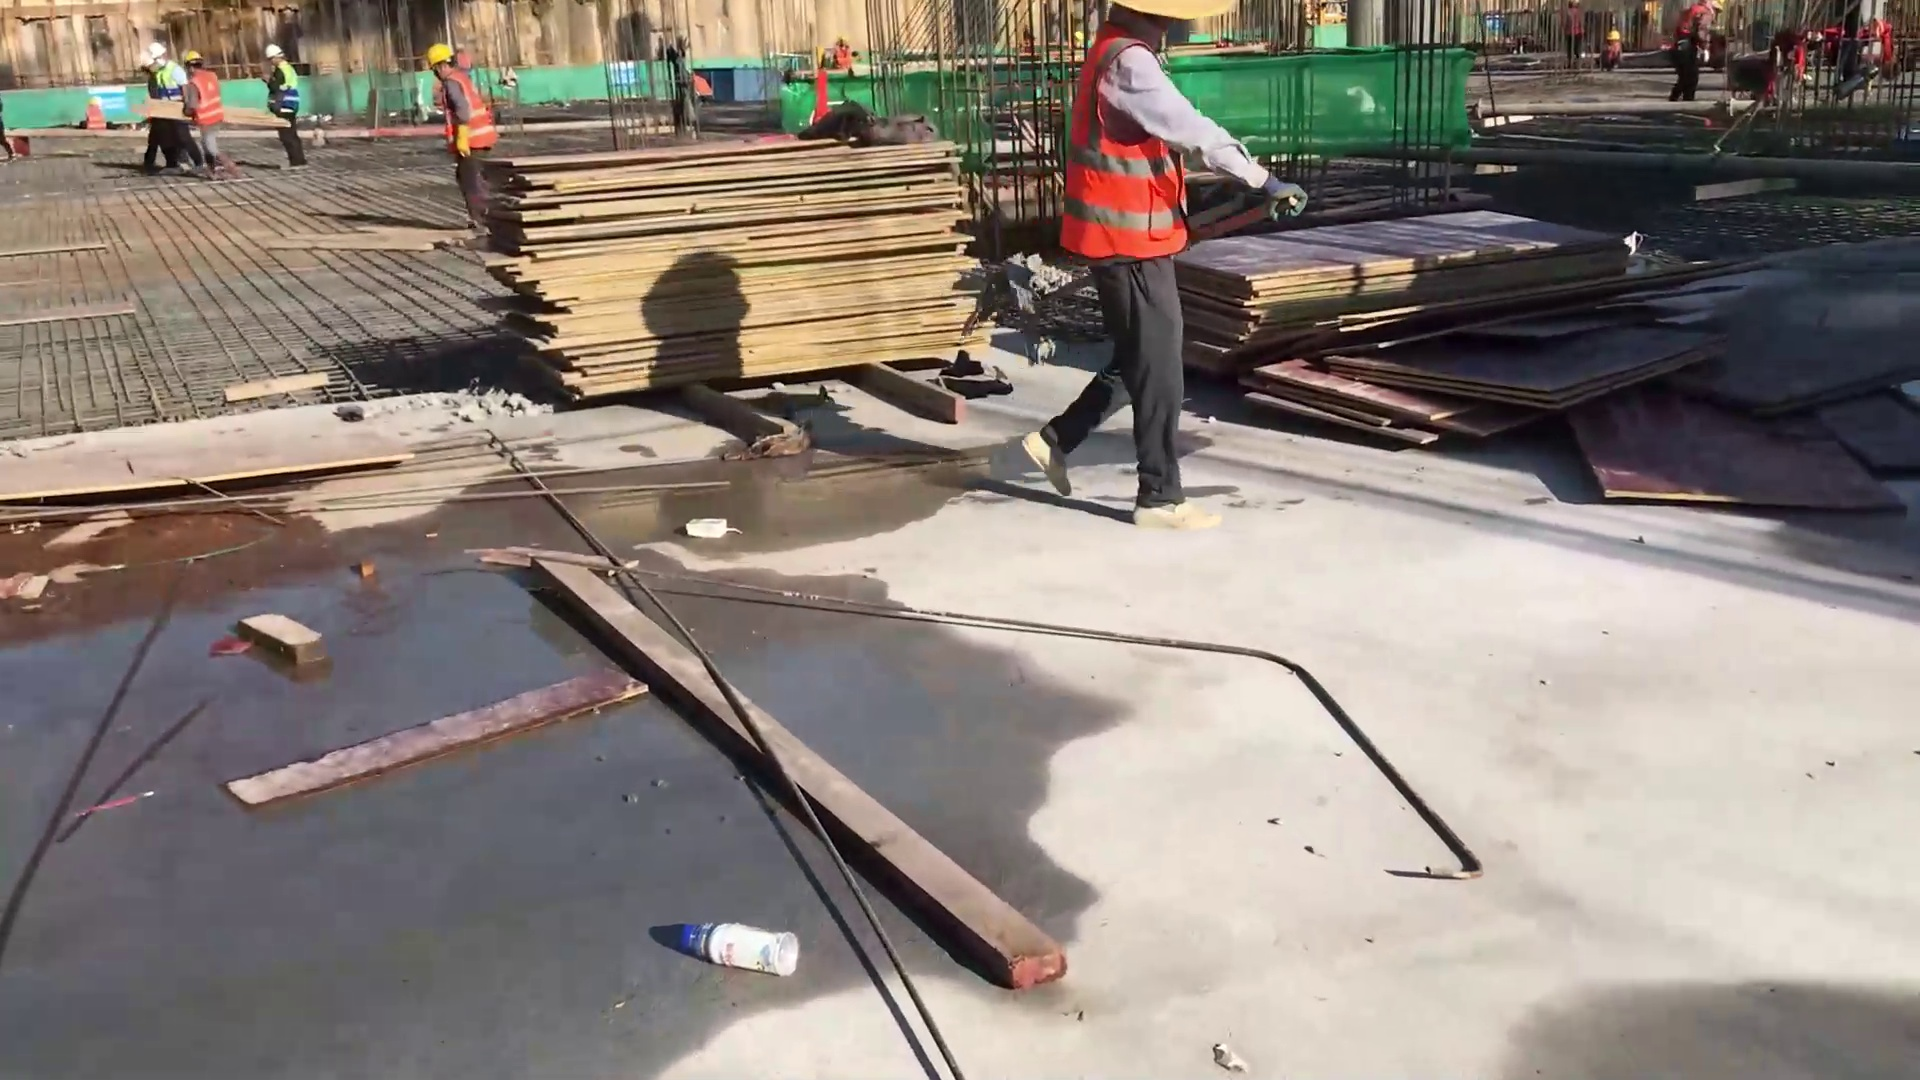board: (1191, 167, 1758, 494), (500, 114, 989, 417)
helmet: (421, 40, 455, 73), (139, 39, 166, 61), (261, 44, 289, 63), (183, 52, 207, 67)
person: (1018, 1, 1300, 541), (418, 38, 500, 230), (249, 42, 323, 178), (134, 40, 187, 162), (180, 49, 226, 172)
vest: (1055, 25, 1206, 271), (438, 73, 495, 159), (187, 63, 226, 128), (262, 63, 303, 114), (156, 62, 185, 108)
